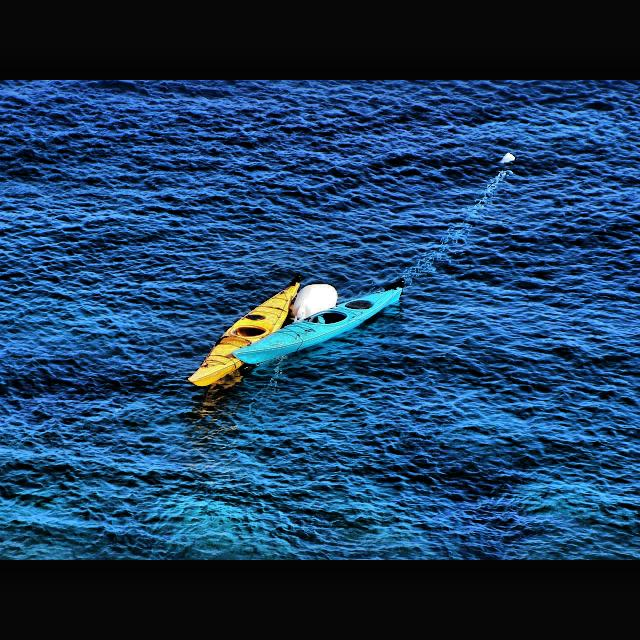kayak: (232, 278, 406, 366), (188, 274, 302, 390)
